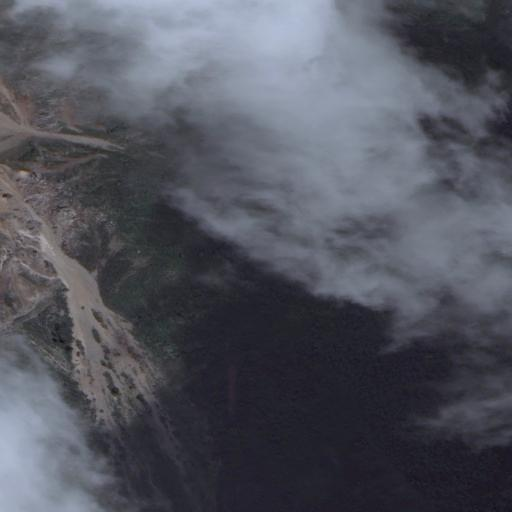landslide: (25, 213, 161, 423)
